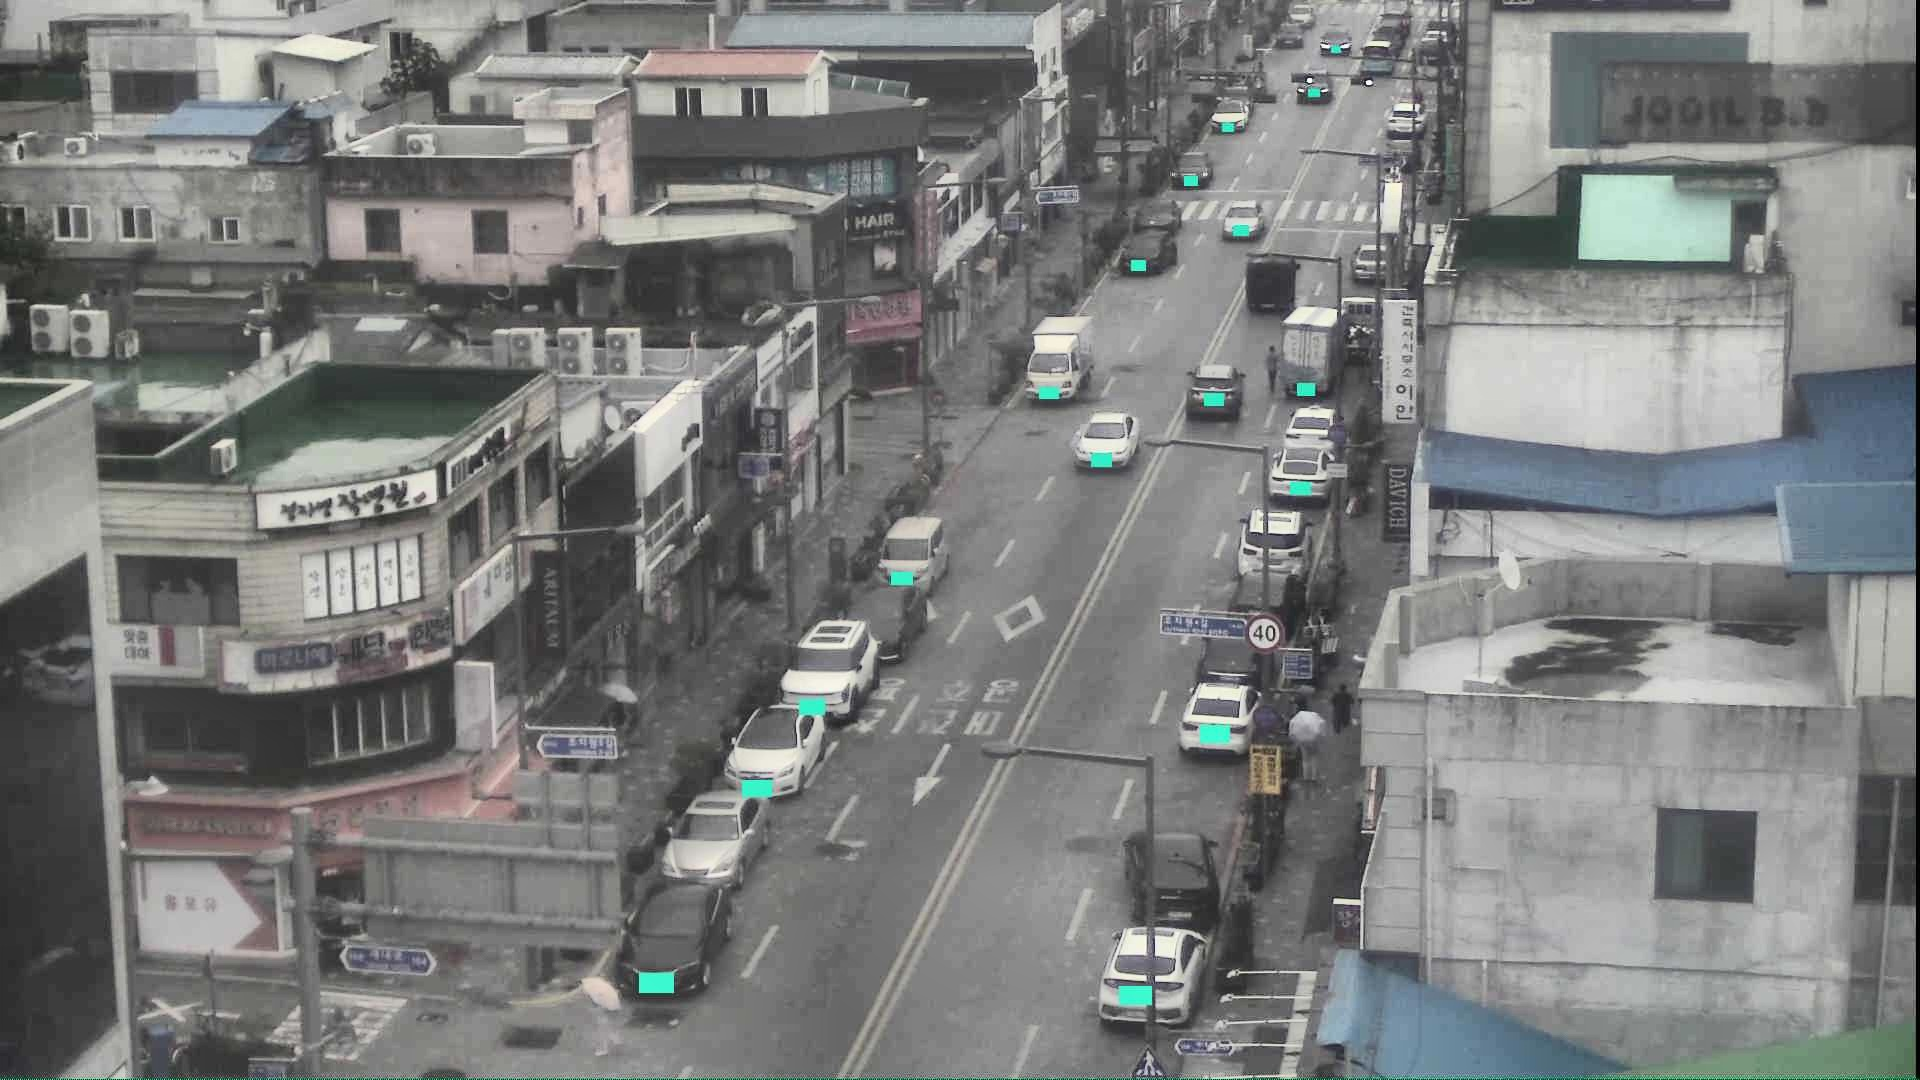jaywalk: (1263, 344, 1283, 398)
sidewalk: (1331, 686, 1360, 740)
um_jaywalk: (580, 975, 624, 1064), (1077, 208, 1097, 247)
um_sidewalk: (597, 684, 637, 757), (1291, 712, 1323, 790)
